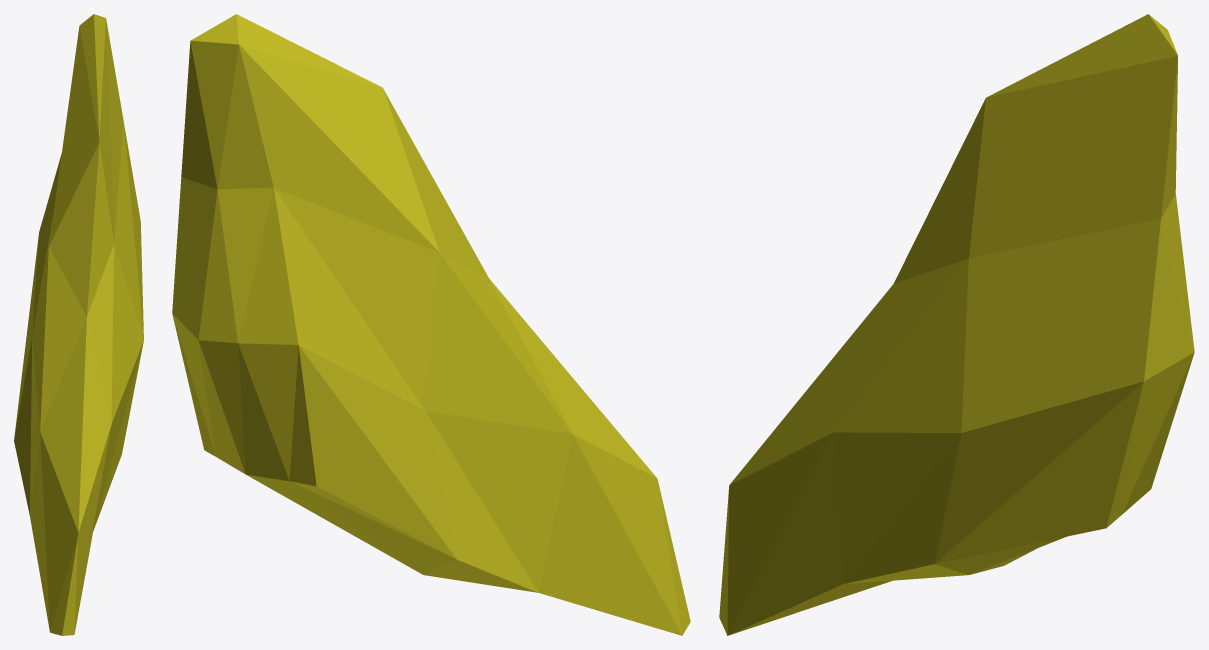
Rendered from Leaf3.dae.
3 renders of one model, left to right at view 1: azimuth 30°, elevation 25°; view 2: azimuth 150°, elevation 25°; view 3: azimuth 270°, elevation 25°, orthographic. The views are drawn at different scales.
Visible parts, largest first — view 1: Cone_001; view 2: Cone_001; view 3: Cone_001.
Boxes of the visible parts, <box> form: Cone_001: <box>14,14,143,635</box>; Cone_001: <box>172,14,690,635</box>; Cone_001: <box>719,14,1194,635</box>.
Bounding box in the file's own units: 0.4799 × 0.5847 × 1.
